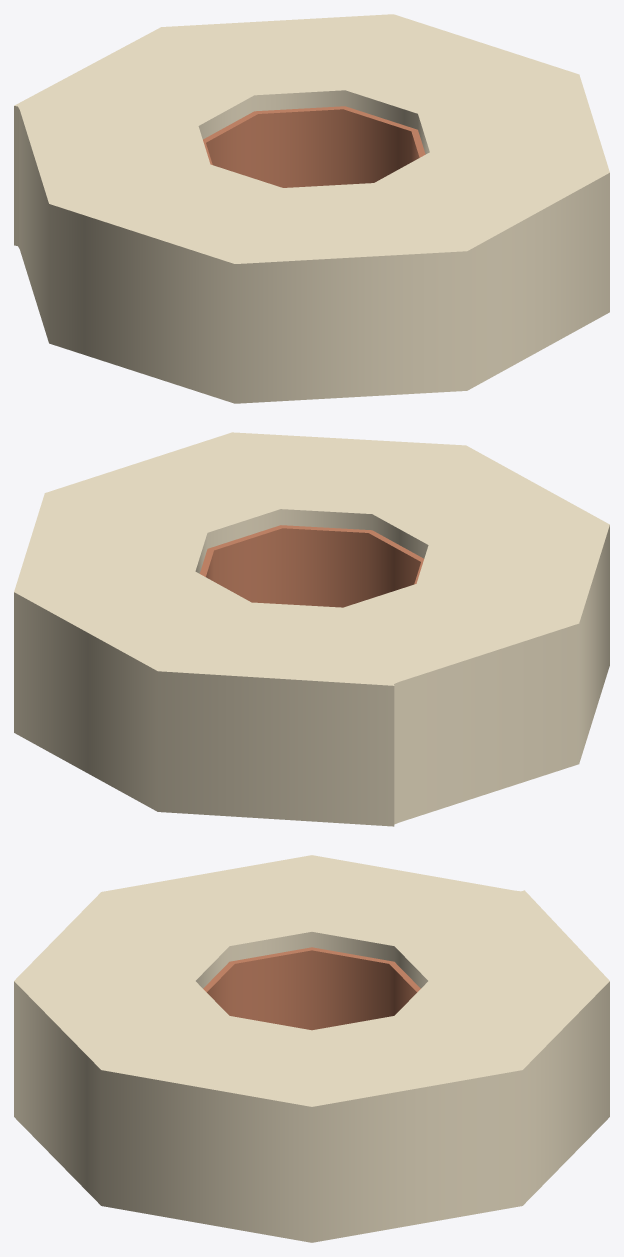
The model's file is misc_tape.glb.
3 views of the same model, one above another, from view 1: azimuth 30°, elevation 25°; view 2: azimuth 150°, elevation 25°; view 3: azimuth 270°, elevation 25° (orthographic). The views are drawn at different scales.
Visible parts, largest first — view 1: misc_tape; view 2: misc_tape; view 3: misc_tape.
Part boxes in pixels (left/top/right/bottom): misc_tape: left=14, top=14, right=609, bottom=403; misc_tape: left=14, top=432, right=609, bottom=826; misc_tape: left=14, top=855, right=609, bottom=1242.
Size of the model in its own units: 7.95 by 2 by 7.95.
1 material, 1 textured.
